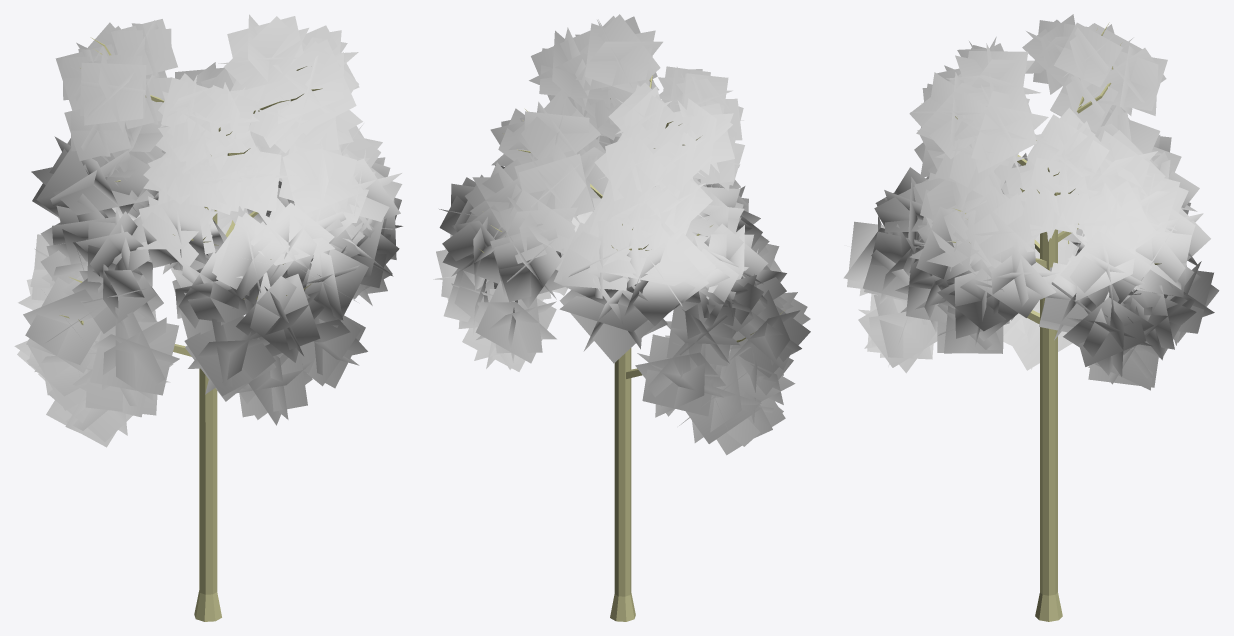
The model's file is TreeDau_Fix 1.fbx.
The picture shows the model from 3 angles, left to right: view 1: azimuth 30°, elevation 25°; view 2: azimuth 150°, elevation 25°; view 3: azimuth 270°, elevation 25°; orthographic projection. The views are drawn at different scales.
Visible parts, largest first — view 1: Leave_LOD0, Trunk_LOD0; view 2: Leave_LOD0, Trunk_LOD0; view 3: Leave_LOD0, Trunk_LOD0.
Part boxes in pixels (x1=…): Leave_LOD0: x1=14, y1=14, x2=402, y2=447; Trunk_LOD0: x1=59, y1=37, x2=322, y2=621; Leave_LOD0: x1=433, y1=14, x2=810, y2=455; Trunk_LOD0: x1=478, y1=75, x2=784, y2=621; Leave_LOD0: x1=843, y1=14, x2=1219, y2=390; Trunk_LOD0: x1=921, y1=22, x2=1161, y2=621.
Size of what is drawn, in the model's own units: 4698 by 7865 by 4591.
